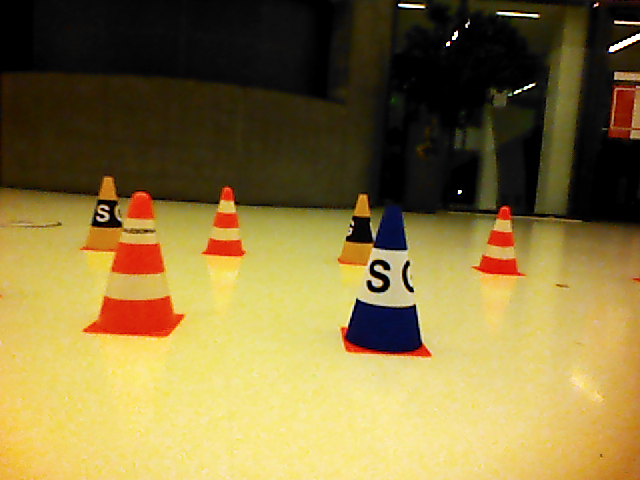bluecone: (350, 207, 422, 354)
orangeconesmall: (100, 191, 175, 328), (481, 204, 519, 274), (206, 185, 242, 254)
yellowcone: (88, 175, 127, 246), (338, 192, 375, 262)
